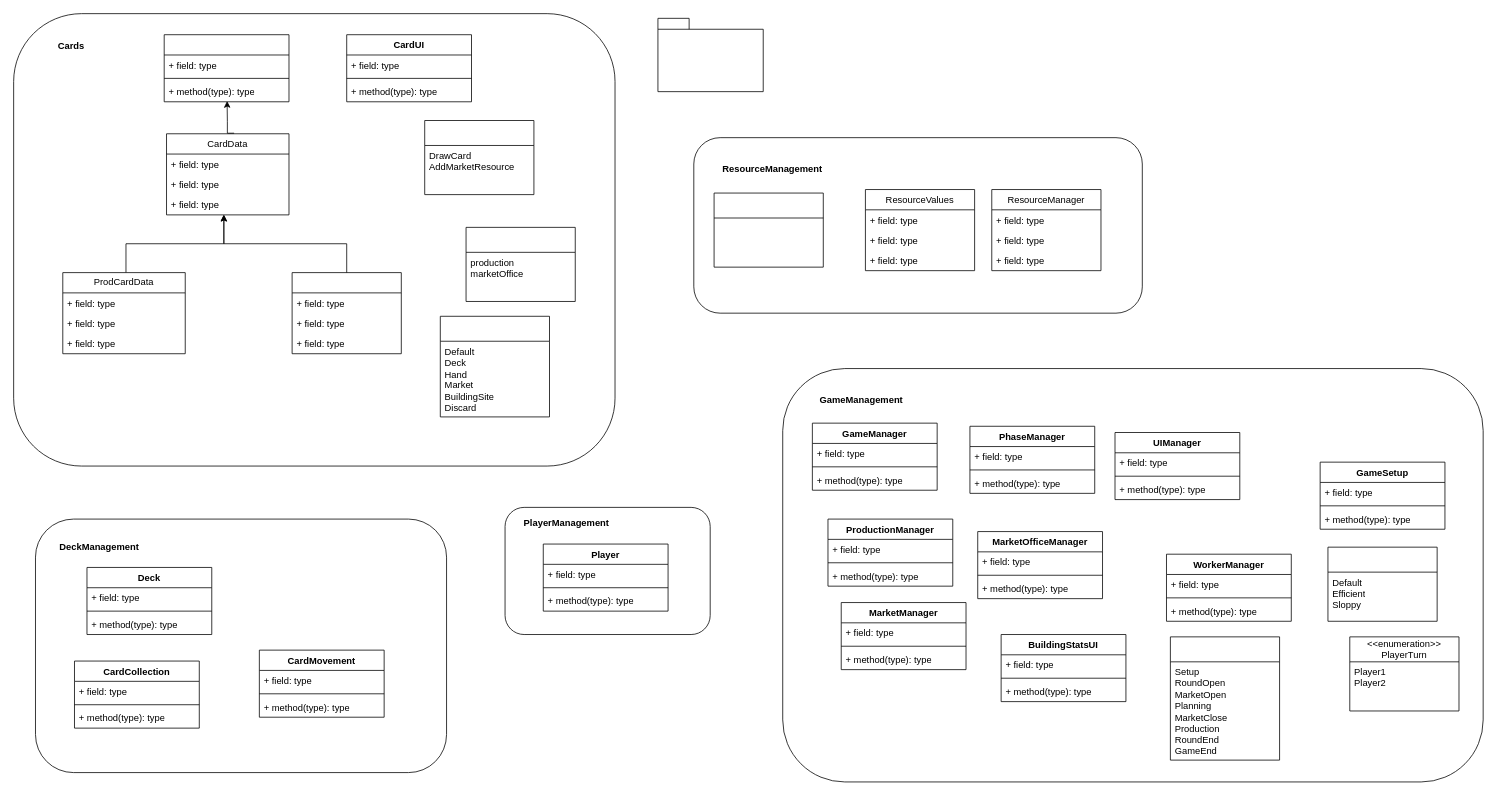
Image size: 1497x796. Some labels were removed from this diagram. The shapes that lost their labels are listed below. From the top down, each one's box as (x1, y1, x2, y2) in pixels, then its label:
(163, 34, 289, 102): (Abstract) Card
(657, 18, 763, 92): Gameutils
(424, 120, 534, 195): <<enumeration>> CardEffectType
(713, 192, 823, 267): <<enumeration>> ResourceType
(465, 227, 575, 301): <<enumeration>> CardType
(291, 272, 401, 354): MarketCardData
(440, 316, 550, 417): <<enumeration>> CardLocation
(1327, 546, 1437, 621): <<enumeration>> WorkerMode
(1170, 636, 1280, 760): <<enumeration>> GamePhase
